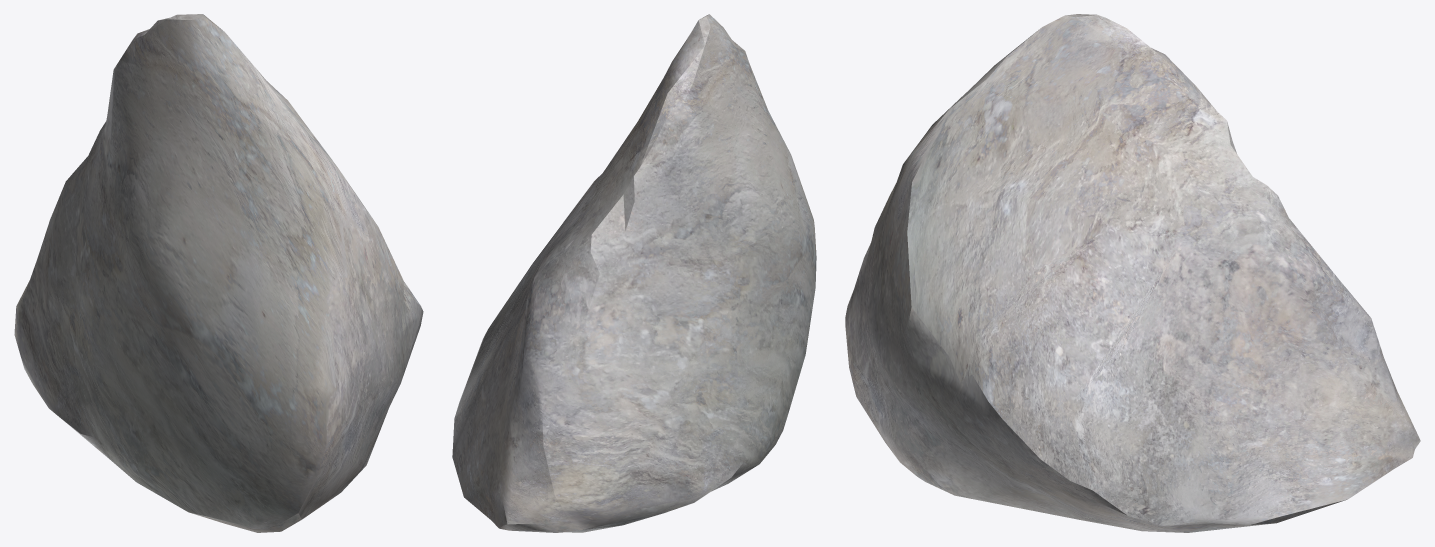
The model's file is rock_00E_lp_2k.fbx.
3 renders of one model, left to right at view 1: azimuth 30°, elevation 25°; view 2: azimuth 150°, elevation 25°; view 3: azimuth 270°, elevation 25°, orthographic. The views are drawn at different scales.
Visible parts, largest first — view 1: rock_00E_lp_2k; view 2: rock_00E_lp_2k; view 3: rock_00E_lp_2k.
Part boxes in pixels (x1=…): rock_00E_lp_2k: x1=14, y1=14, x2=423, y2=532; rock_00E_lp_2k: x1=452, y1=14, x2=816, y2=532; rock_00E_lp_2k: x1=845, y1=14, x2=1420, y2=532.
Bounding box in the file's own units: 154 × 237 × 267.
